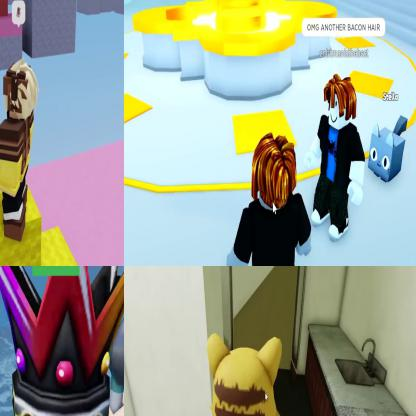Roblox-Avatar: (1, 267, 124, 416), (173, 333, 315, 416), (226, 132, 313, 266), (305, 75, 366, 244), (1, 56, 41, 243)
